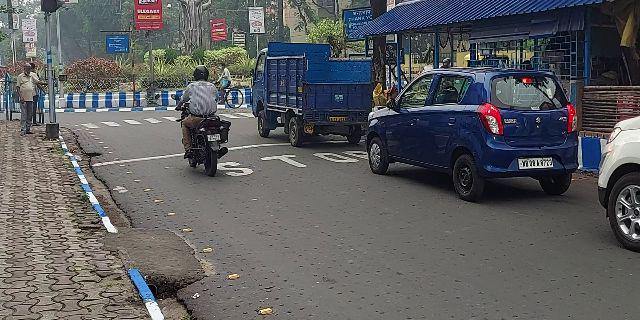Car: (363, 50, 585, 203)
Minitruck: (244, 39, 375, 151)
Motorbike: (177, 59, 234, 184)
